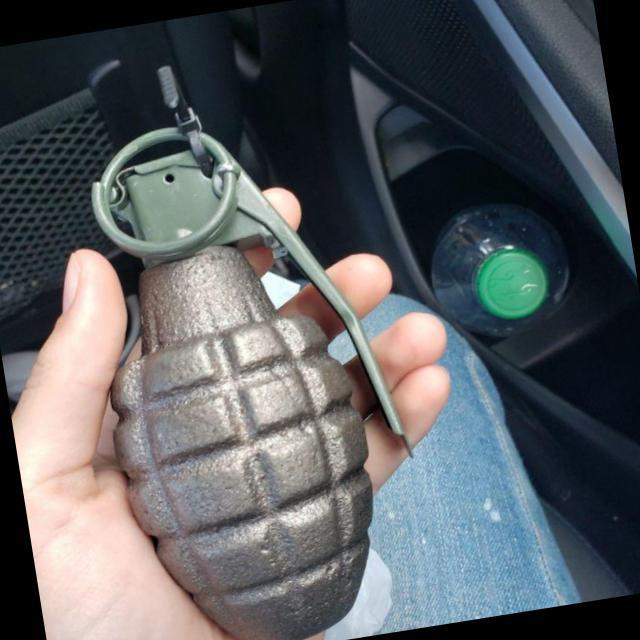grenade: (68, 77, 432, 640)
